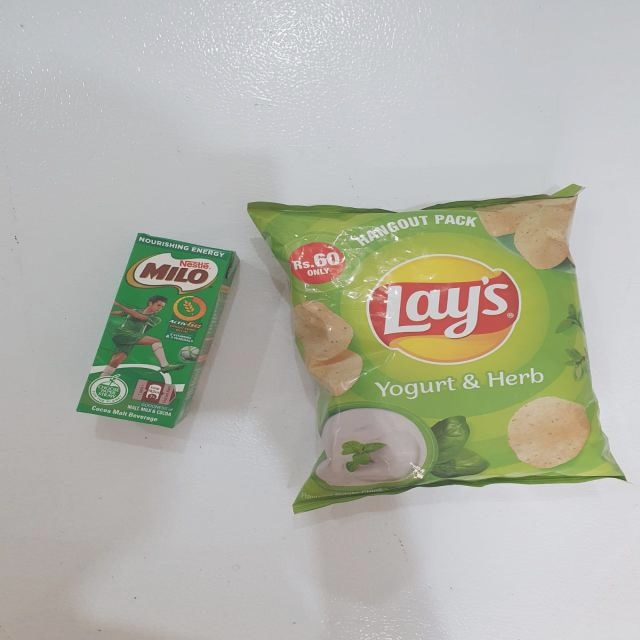lays-large: (276, 210, 607, 483)
milo-180ml: (81, 238, 235, 424)
